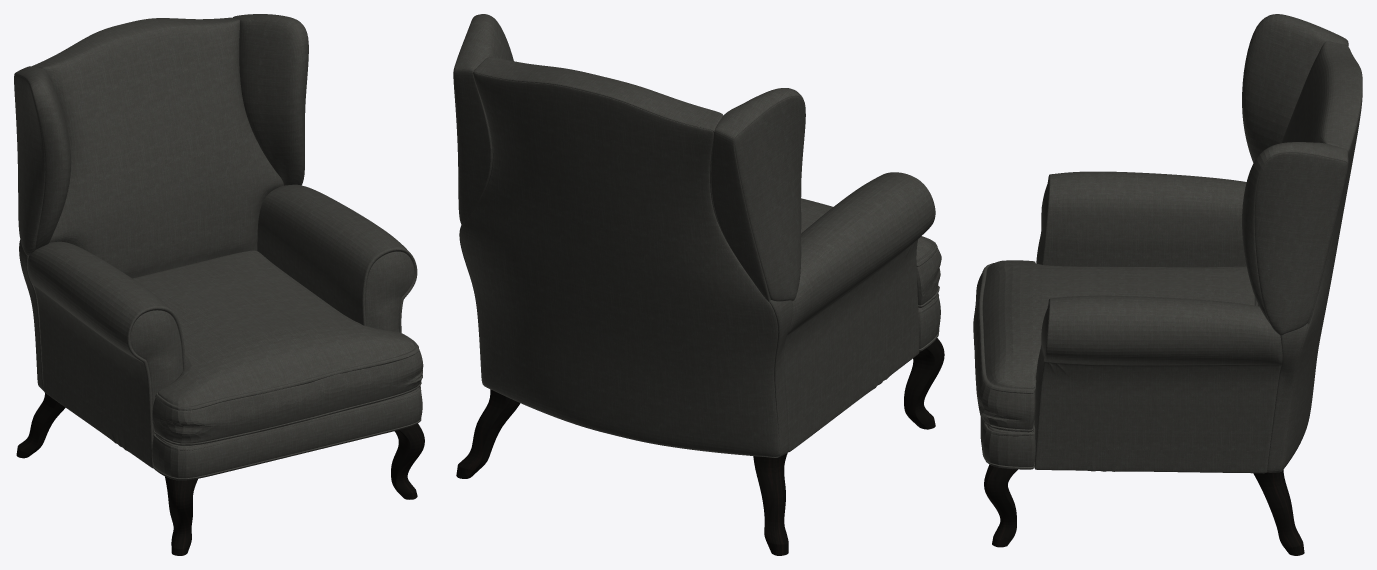
The model's file is DB_IndoorFurniture_105.obj.
The picture shows the model from 3 angles, left to right: view 1: azimuth 30°, elevation 25°; view 2: azimuth 150°, elevation 25°; view 3: azimuth 270°, elevation 25°; orthographic projection. The views are drawn at different scales.
Visible parts, largest first — view 1: DB_IndoorFurniture_105; view 2: DB_IndoorFurniture_105; view 3: DB_IndoorFurniture_105.
Boxes of the visible parts, bbox=[...] form: DB_IndoorFurniture_105: bbox=[14, 14, 424, 555]; DB_IndoorFurniture_105: bbox=[453, 14, 944, 555]; DB_IndoorFurniture_105: bbox=[973, 14, 1362, 555].
Size of the model in its own units: 0.4459 by 0.5499 by 0.4808.
2 materials, 2 textured.
